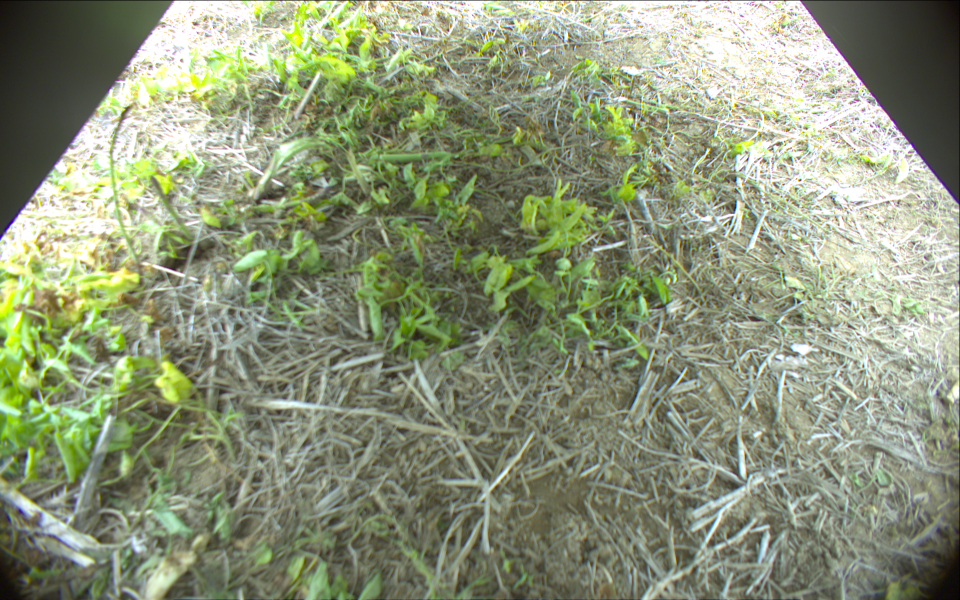aspa: (110, 103, 145, 279), (150, 175, 192, 237), (345, 151, 370, 198)
